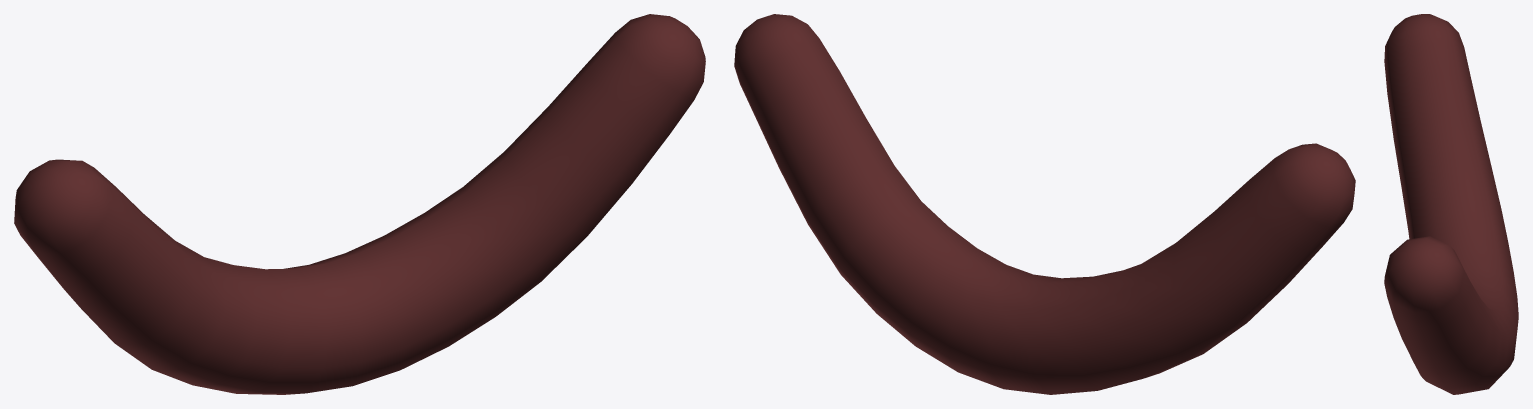
Rendered from char_mouth_smile.glb.
3 views of the same model, side by side, from view 1: azimuth 30°, elevation 25°; view 2: azimuth 150°, elevation 25°; view 3: azimuth 270°, elevation 25° (orthographic). The views are drawn at different scales.
Parts seen in each view (by area): view 1: char_mouth_smile; view 2: char_mouth_smile; view 3: char_mouth_smile.
Part boxes in pixels (bbox=[...]): char_mouth_smile: bbox=[14, 14, 705, 394]; char_mouth_smile: bbox=[734, 14, 1355, 394]; char_mouth_smile: bbox=[1384, 14, 1518, 394].
Bounding box in the file's own units: 0.0926 × 0.0411 × 0.0206.
